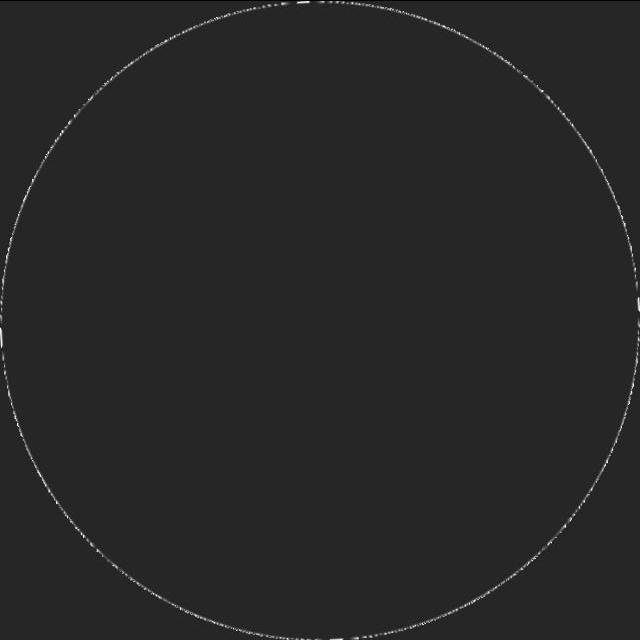Circle: (0, 1, 640, 638)
